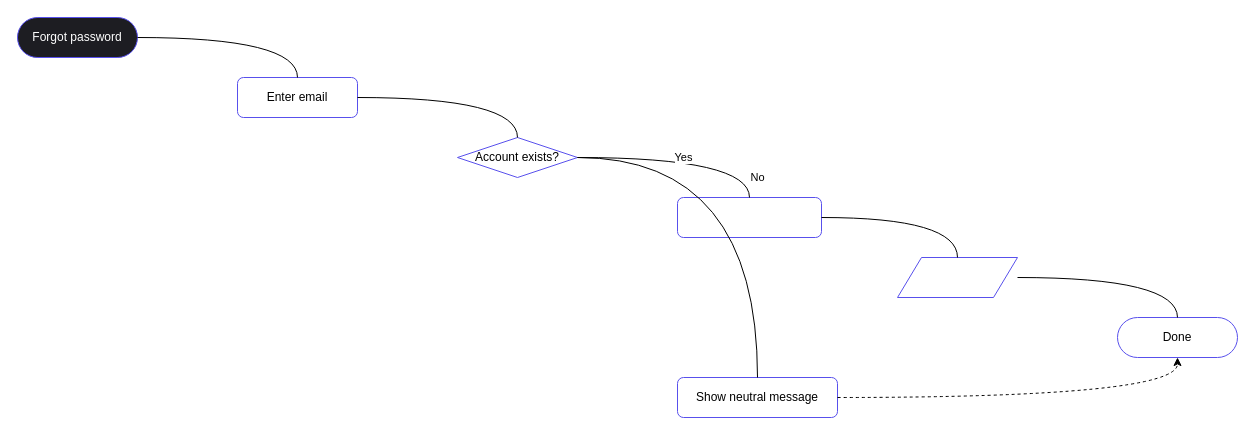
Some shapes in this 1255 by 435 pixel diagram are drawn without their labels. Here are the shapes that lost their labels. From the top down, the box of each, then its label:
(676, 196, 822, 238): Create reset token
(896, 256, 1018, 298): Email the link
